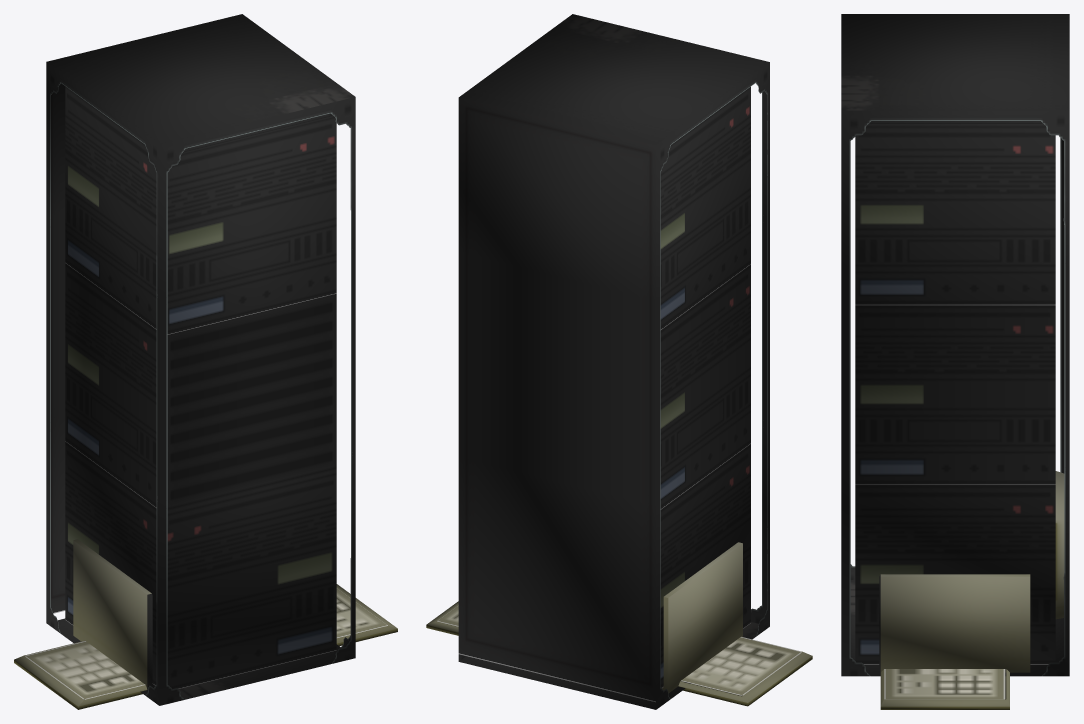
File: PlataformsAssets.fbx_PlataformTech1.fbx
3 renders of one model, left to right at view 1: azimuth 30°, elevation 25°; view 2: azimuth 150°, elevation 25°; view 3: azimuth 270°, elevation 25°, orthographic.
Visible parts, largest first — view 1: DataCenter1, Pc2, Keyboard; view 2: DataCenter1, Pc2, Keyboard; view 3: DataCenter1, Pc2, Keyboard, BoxMonitor.
Boxes of the visible parts, x1,y1,x2,y2 form: DataCenter1: (46, 14, 355, 705); Pc2: (73, 539, 155, 689); Keyboard: (14, 584, 397, 709); DataCenter1: (458, 14, 769, 709); Pc2: (662, 542, 742, 693); Keyboard: (426, 601, 812, 706); DataCenter1: (841, 14, 1069, 676); Pc2: (879, 574, 1030, 672); Keyboard: (880, 669, 1009, 709); BoxMonitor: (1055, 471, 1064, 619).
Size of the model in its own units: 62.09 by 105 by 38.11.
